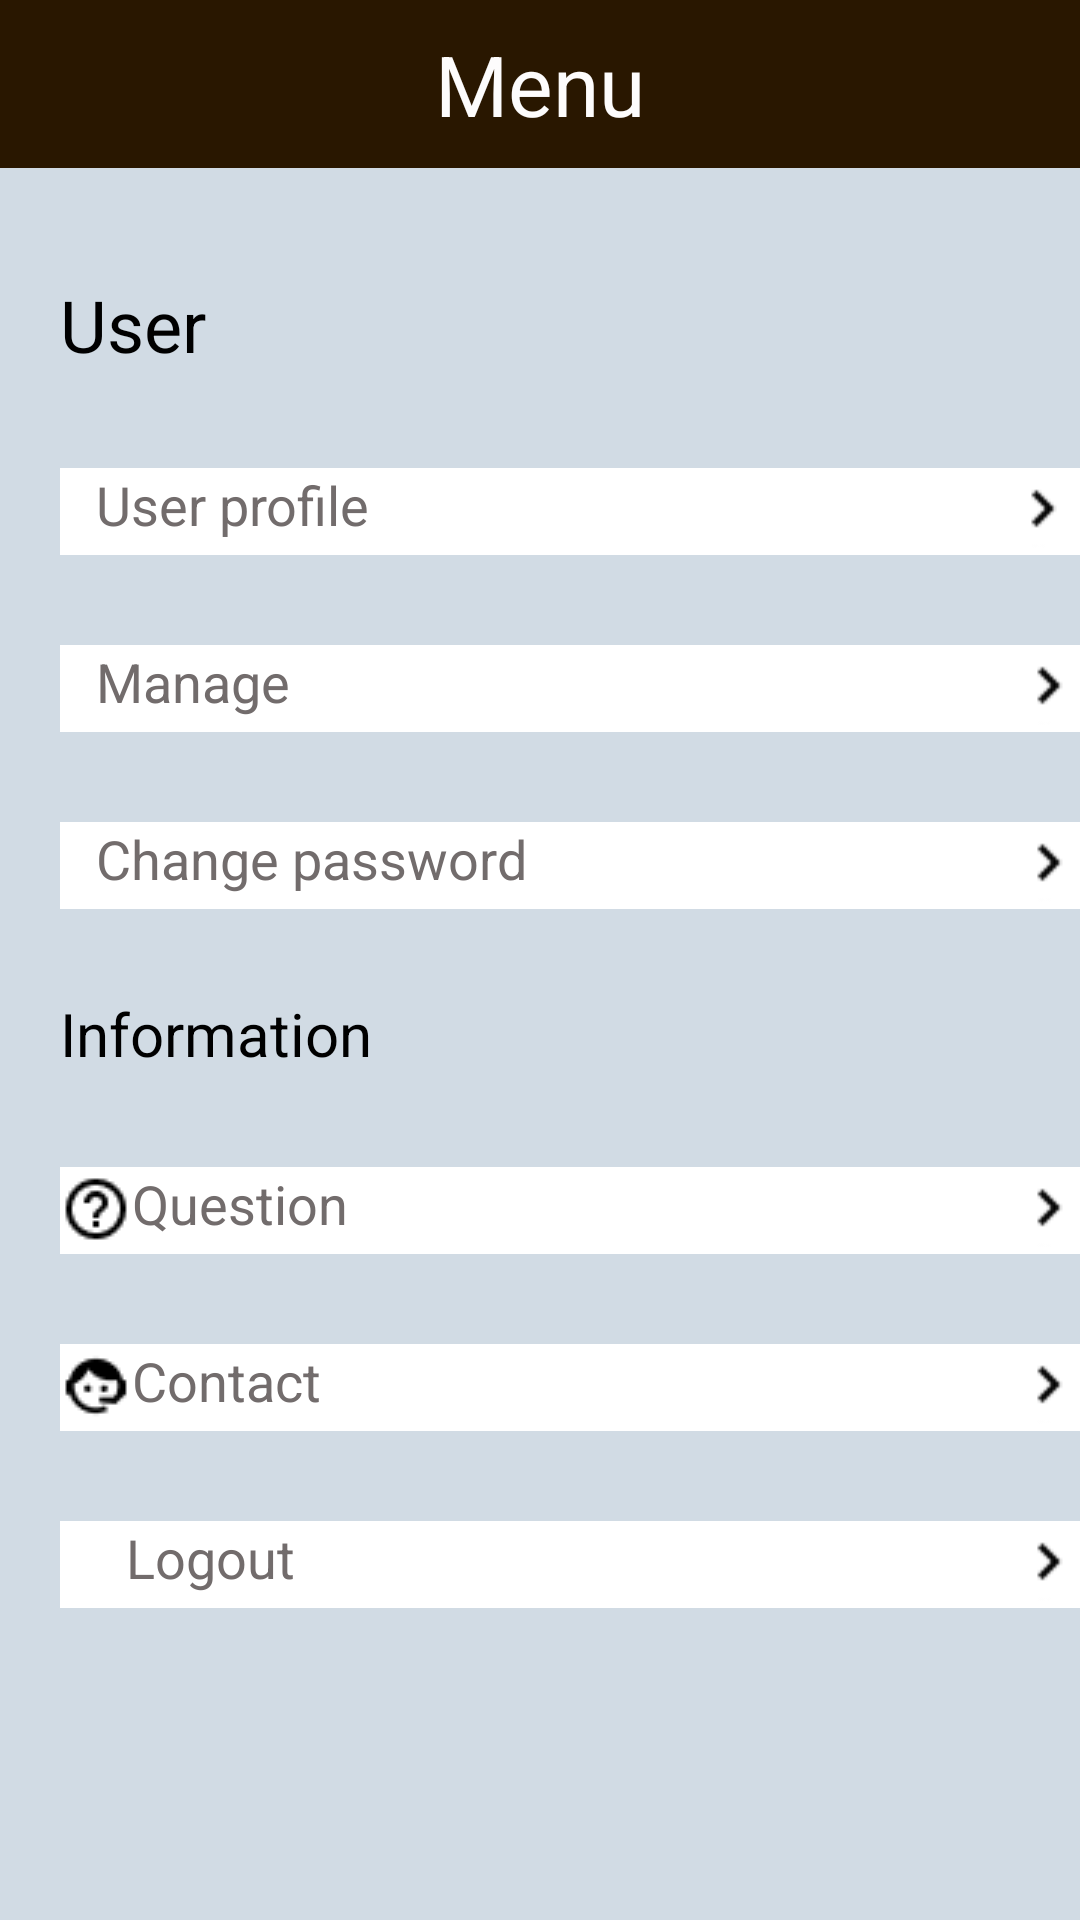

Screen size 1080 × 1920. Icon name, then its box in pixels as (x1, y1, x2, y2):
customer service: (65, 1358, 127, 1414)
